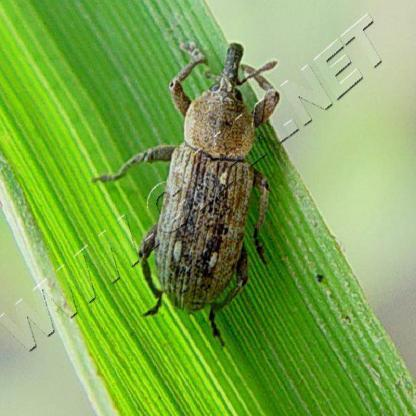rice-bug: (125, 44, 282, 322)
